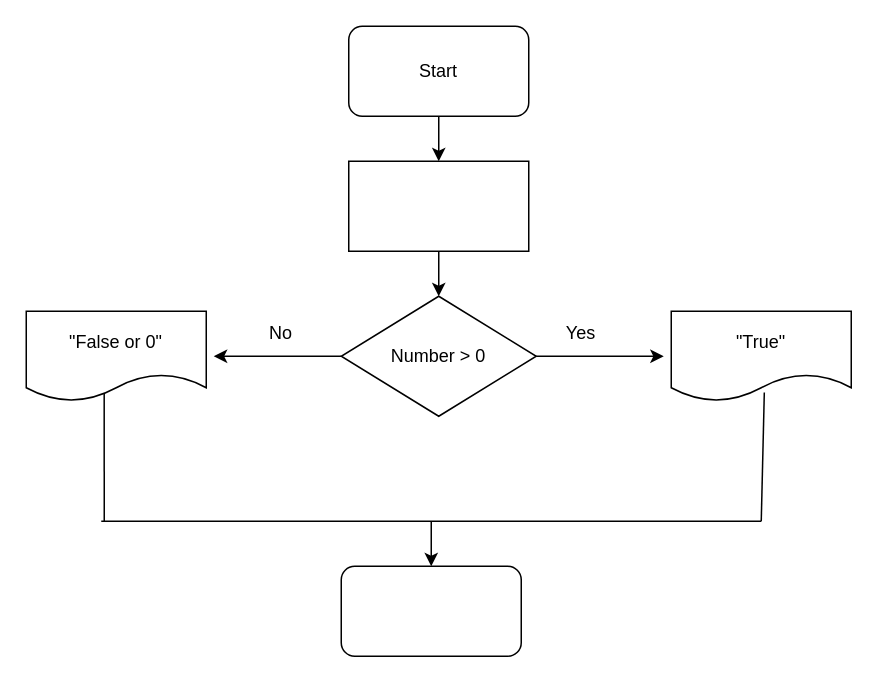
This 878x683 diagram has some shape labels left out. The box of each missing label's shape, as (x1, y1, x2, y2) in pixels:
End: (340, 565, 521, 656)
Number: (347, 160, 529, 251)
